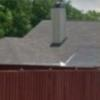chimneys: (52, 1, 66, 44)
